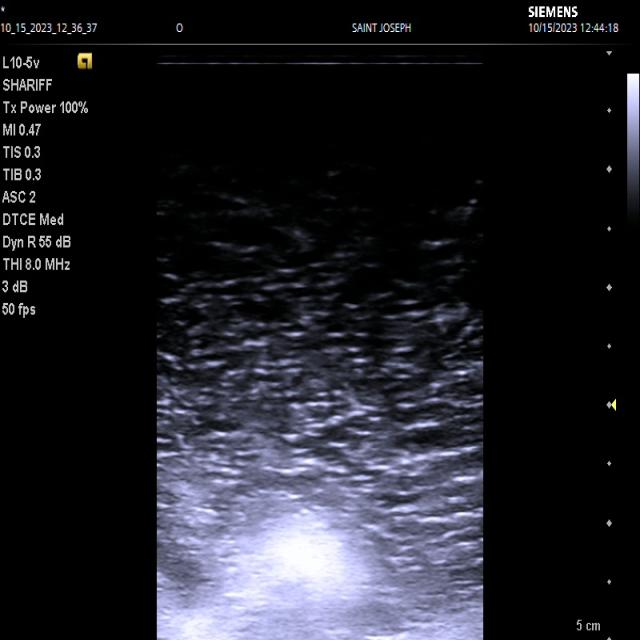tissue: (191, 519, 362, 640)
